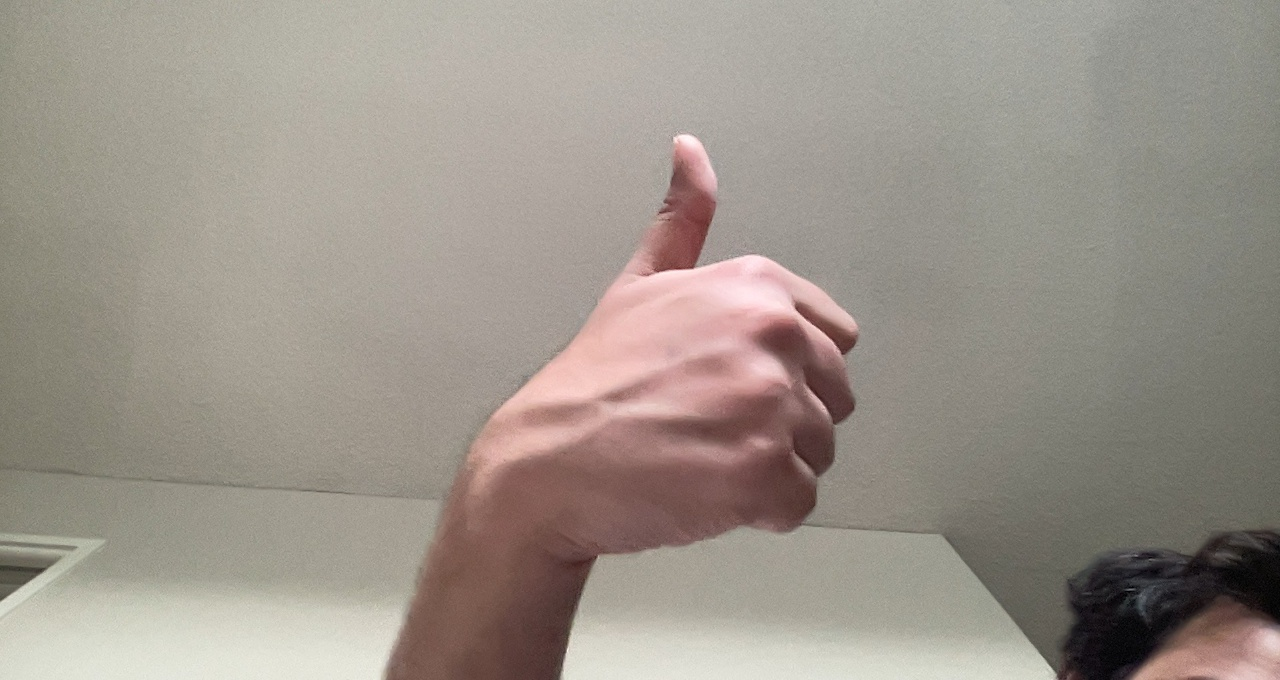thumbsup: (510, 127, 860, 539)
